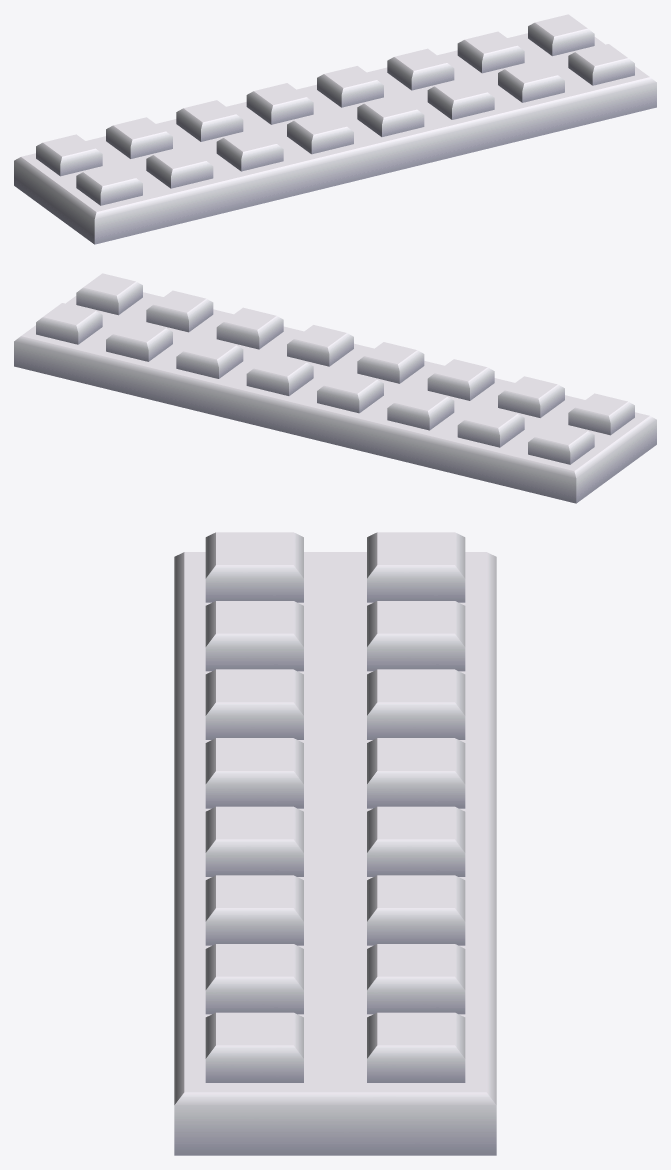
File: square-hq-plate-2x8.glb
3 renders of one model, top to bottom at view 1: azimuth 30°, elevation 25°; view 2: azimuth 150°, elevation 25°; view 3: azimuth 270°, elevation 25°, orthographic. The views are drawn at different scales.
Visible parts, largest first — view 1: square-hq-plate-2x8; view 2: square-hq-plate-2x8; view 3: square-hq-plate-2x8.
Boxes of the visible parts, left/top/right/bottom form: square-hq-plate-2x8: left=14, top=14, right=656, bottom=244; square-hq-plate-2x8: left=14, top=273, right=656, bottom=503; square-hq-plate-2x8: left=174, top=532, right=496, bottom=1155.
Bounding box in the file's own units: 0.636 × 0.05 × 0.158.
Materials: 1 (1 with a texture image).
